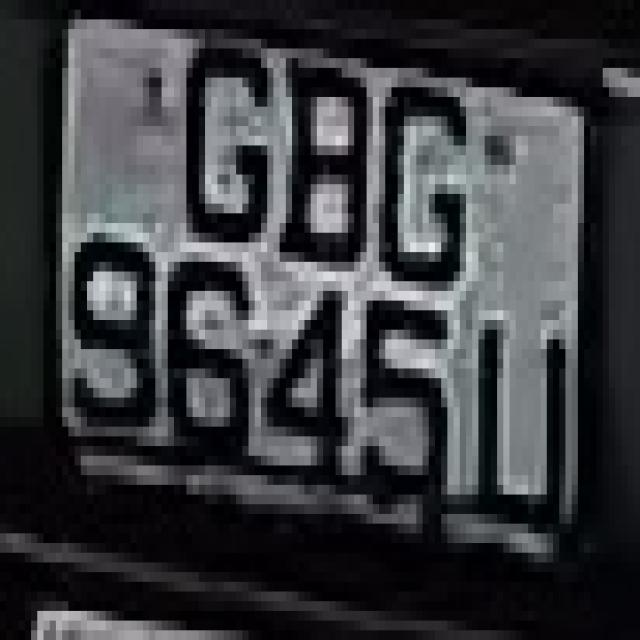4: (261, 272, 360, 494)
5: (342, 272, 460, 552)
6: (162, 242, 261, 485)
9: (68, 194, 149, 475)
B: (279, 58, 392, 301)
G: (168, 10, 280, 281), (354, 49, 472, 281)
U: (466, 282, 578, 562)
